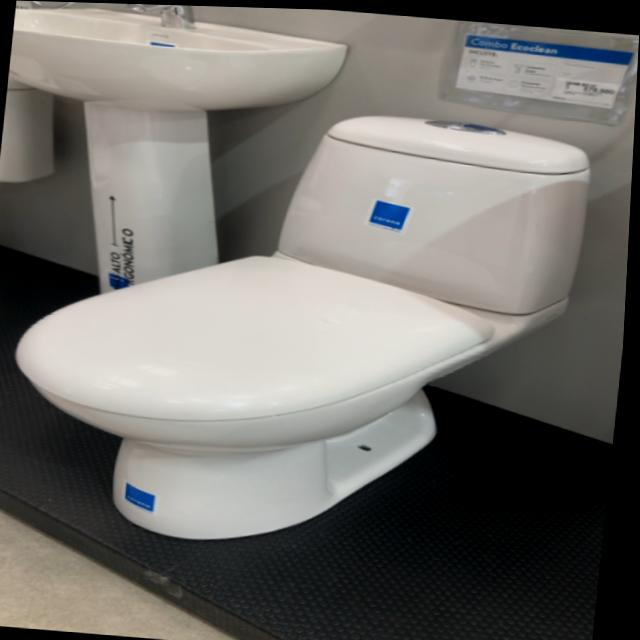toilet: (1, 84, 598, 566)
